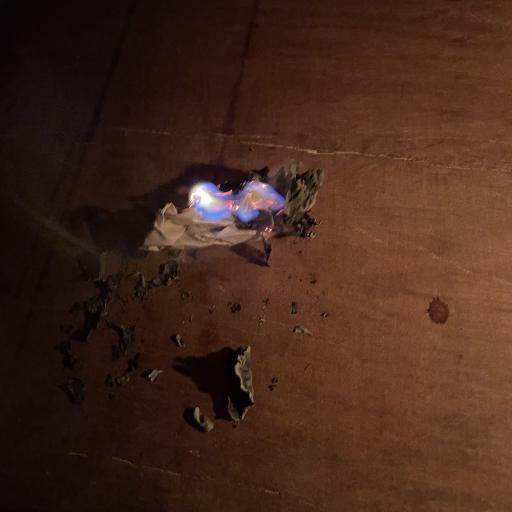fire: (189, 181, 285, 222)
